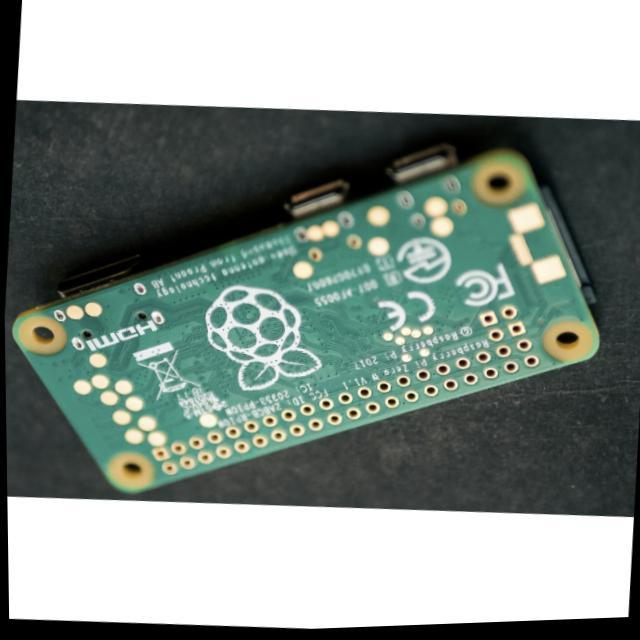Raspberry-Pi-Zero-W: (13, 146, 600, 493)
